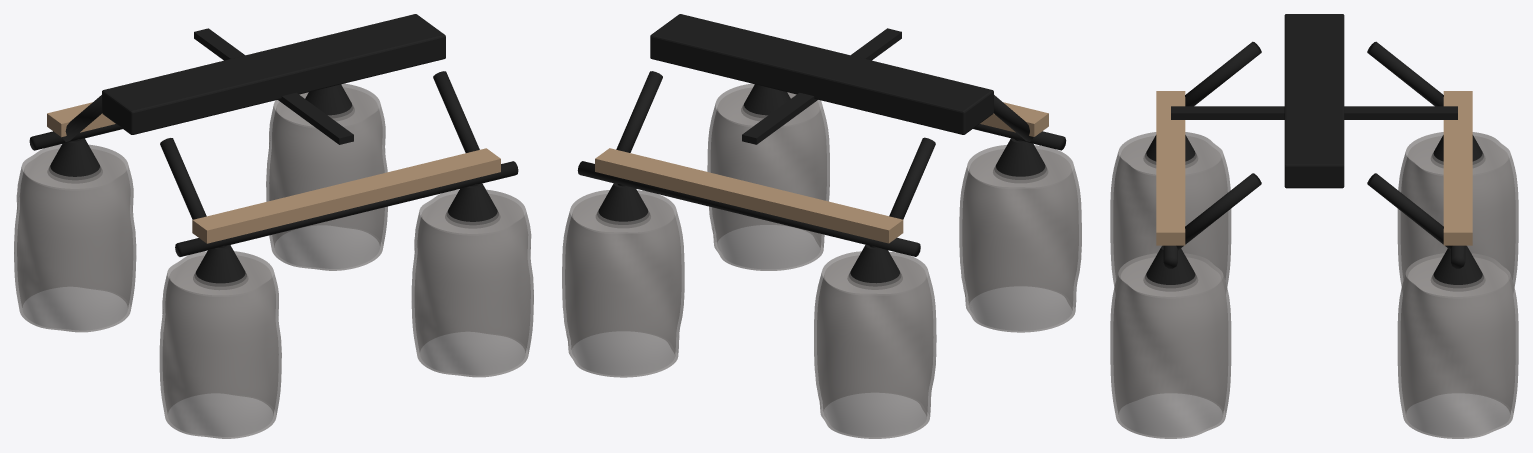
3 renders of one model, left to right at view 1: azimuth 30°, elevation 25°; view 2: azimuth 150°, elevation 25°; view 3: azimuth 270°, elevation 25°, orthographic.
Parts seen in each view (by area): view 1: shade, black, wood; view 2: shade, black, wood; view 3: shade, black, wood.
Part boxes in pixels (x1,y1,x2,y2): shade: [14, 83, 533, 438]; black: [29, 14, 518, 289]; wood: [47, 102, 500, 243]; shade: [562, 83, 1081, 438]; black: [577, 14, 1066, 289]; wood: [595, 102, 1048, 243]; shade: [1110, 132, 1518, 438]; black: [1143, 14, 1485, 291]; wood: [1156, 91, 1472, 245].
Size of the model in its own units: 0.3406 by 0.245 by 0.3412.
